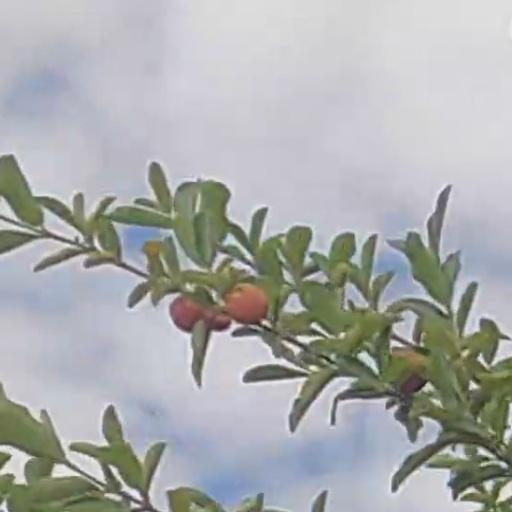acerola: (228, 283, 265, 324), (172, 295, 200, 330)
